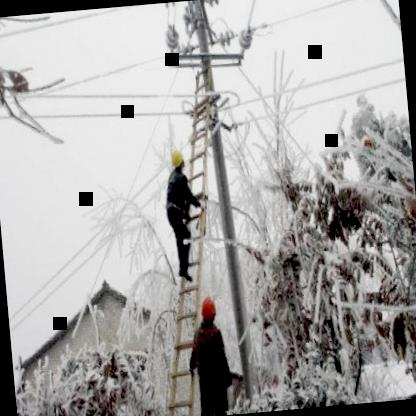helmet: (197, 291, 220, 325), (168, 145, 189, 175)
